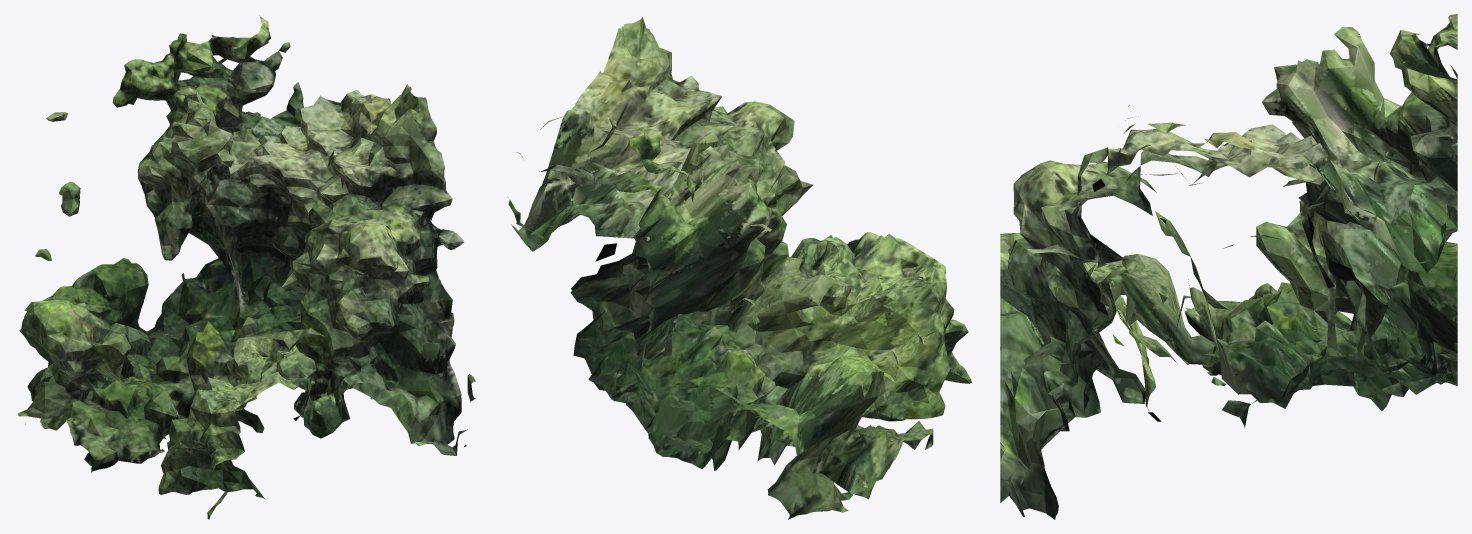
3 renders of one model, left to right at view 1: azimuth 30°, elevation 25°; view 2: azimuth 150°, elevation 25°; view 3: azimuth 270°, elevation 25°, orthographic. The views are drawn at different scales.
Bounding box in the file's own units: 26.11 × 26.11 × 26.11.
Materials: 8 (8 with a texture image).
